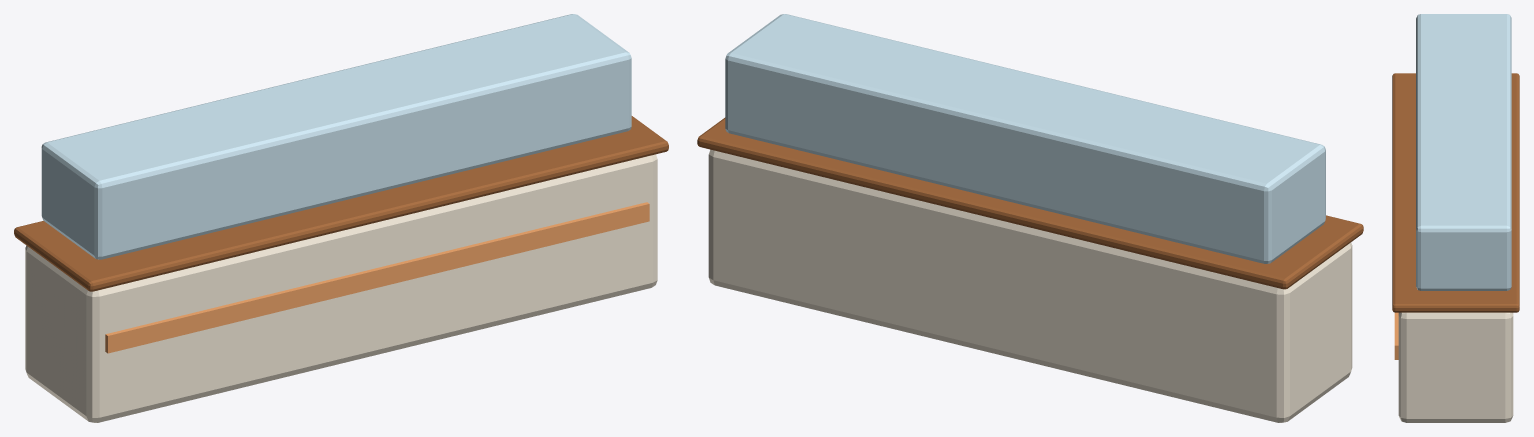
File: int_etalase.fbx
3 renders of one model, left to right at view 1: azimuth 30°, elevation 25°; view 2: azimuth 150°, elevation 25°; view 3: azimuth 270°, elevation 25°, orthographic. The views are drawn at different scales.
Visible parts, largest first — view 1: int_etalase; view 2: int_etalase; view 3: int_etalase.
Boxes of the visible parts, <box> form: int_etalase: <box>14,14,668,422</box>; int_etalase: <box>697,14,1363,422</box>; int_etalase: <box>1392,14,1519,422</box>.
Bounding box in the file's own units: 346 × 132 × 80.
1 material, 1 textured.
